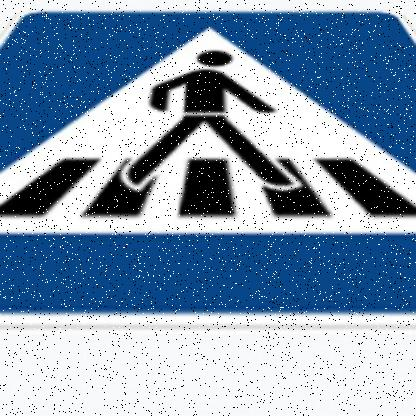Pedestrian Crossing: (1, 9, 416, 331)
